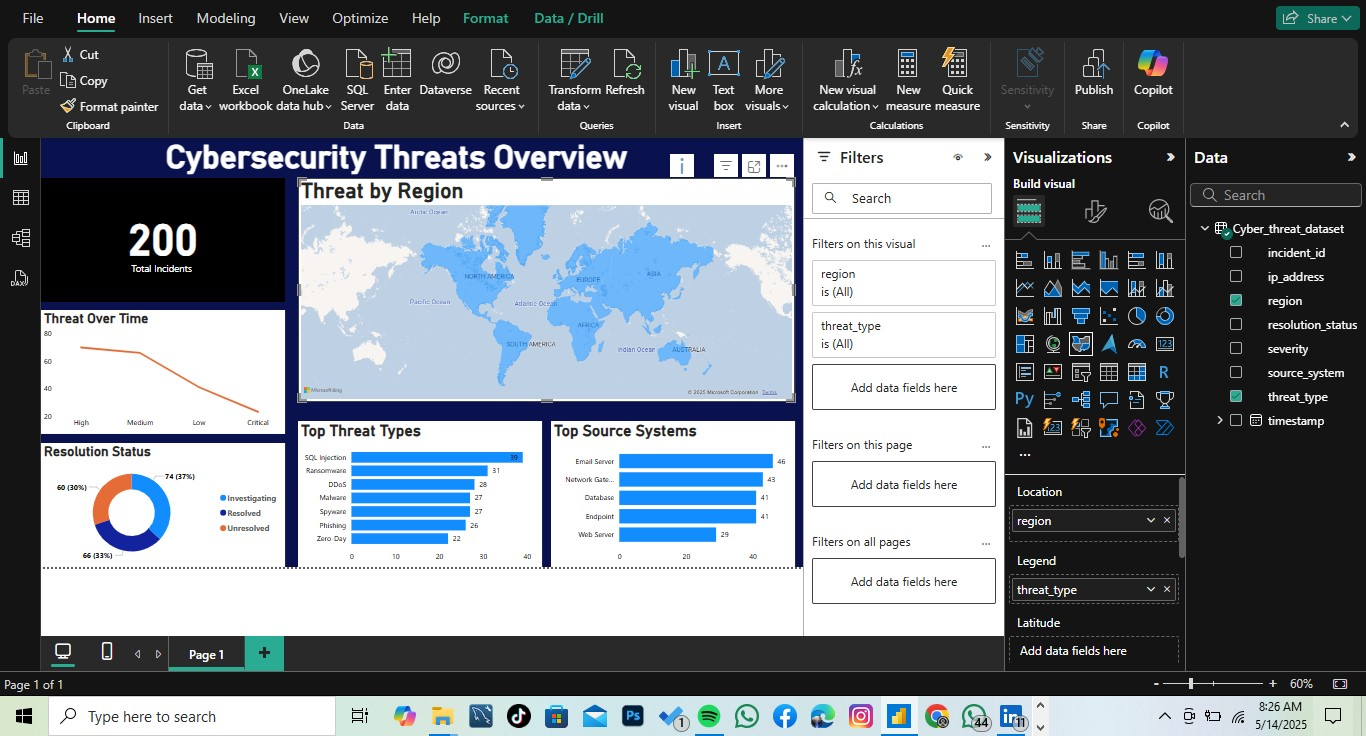

The page's visual inventory and layout, read from the dashboard file:
{"tool":"powerbi","page":{"name":"Page 1","canvas":[1280,720],"ordinal":0},"visuals":[{"type":"shape","box":[0,0,1280,720.6],"z":0},{"type":"shape","box":[431.7,67.2,834.9,376.3],"z":1000},{"type":"shape","box":[0,67.2,409.9,208.3],"z":2000},{"type":"shape","box":[431.7,475.4,409.9,245.2],"z":3000},{"type":"shape","box":[856.7,475.4,409.9,245.2],"z":4000},{"type":"shape","box":[0,288.9,409.9,208.3],"z":5000},{"type":"shape","box":[0,512.3,409.9,208.3],"z":6000},{"type":"filledMap","title":"Threat by Region","fields":{"Category":["Cyber_threat_dataset.region"],"Series":["Cyber_threat_dataset.threat_type"]},"box":[431.7,67.2,834.9,376.3],"z":7000},{"type":"lineChart","title":"Threat Over Time","fields":{"Y":["CountNonNull(Cyber_threat_dataset.timestamp)"],"Category":["Cyber_threat_dataset.severity"]},"box":[0,288.9,409.9,208.3],"z":8000},{"type":"barChart","title":"Top Source Systems","fields":{"Category":["Cyber_threat_dataset.source_system"],"Y":["CountNonNull(Cyber_threat_dataset.severity)"]},"box":[856.7,475.4,409.9,245.2],"z":9000},{"type":"barChart","title":"Top Threat Types","fields":{"Category":["Cyber_threat_dataset.threat_type"],"Y":["CountNonNull(Cyber_threat_dataset.severity)"]},"box":[431.7,475.4,409.9,245.2],"z":10000},{"type":"donutChart","title":"Resolution Status","fields":{"Y":["CountNonNull(Cyber_threat_dataset.severity)"],"Category":["Cyber_threat_dataset.resolution_status"]},"box":[0,512.3,409.9,208.3],"z":11000},{"type":"card","fields":{"Values":["Count(Cyber_threat_dataset.incident_id)"]},"box":[0,67.2,409.9,208.3],"z":12000},{"type":"textbox","title":"Cybersecurity Threats Overview","box":[204.9,0,848.3,67.2],"z":13000}]}

Visuals, with their boxes on the page's 1280x720 design canvas (x1, y1, x2, y2). These are canvas units, not pixel positions in the 1366x736 screenshot, which may show the page scaled, cropped or inside an application window:
shape: <region>0, 0, 1280, 721</region>
shape: <region>432, 67, 1267, 444</region>
shape: <region>0, 67, 410, 276</region>
shape: <region>432, 475, 842, 721</region>
shape: <region>857, 475, 1267, 721</region>
shape: <region>0, 289, 410, 497</region>
shape: <region>0, 512, 410, 721</region>
"Threat by Region" filledMap: <region>432, 67, 1267, 444</region>
"Threat Over Time" lineChart: <region>0, 289, 410, 497</region>
"Top Source Systems" barChart: <region>857, 475, 1267, 721</region>
"Top Threat Types" barChart: <region>432, 475, 842, 721</region>
"Resolution Status" donutChart: <region>0, 512, 410, 721</region>
card - Count(Cyber_threat_dataset.incident_id): <region>0, 67, 410, 276</region>
"Cybersecurity Threats Overview" textbox: <region>205, 0, 1053, 67</region>
